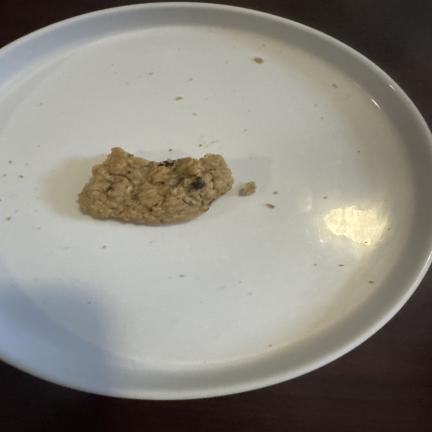cookie: (79, 148, 233, 224), (240, 182, 256, 195)
